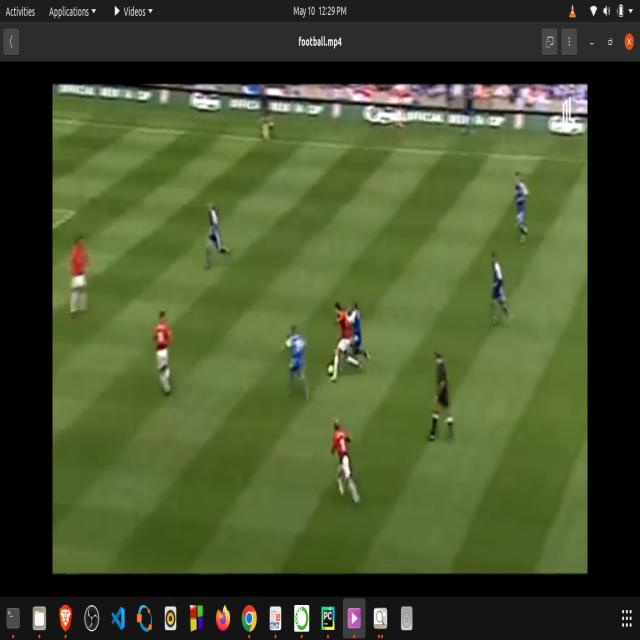Ball: (326, 363, 334, 376)
Refree: (425, 346, 460, 446)
football-players: (330, 416, 366, 516), (148, 306, 184, 400), (282, 321, 318, 406), (506, 164, 539, 248), (482, 243, 513, 328), (201, 198, 234, 274), (66, 230, 92, 324), (333, 293, 356, 384), (254, 85, 283, 150), (348, 282, 368, 368)
